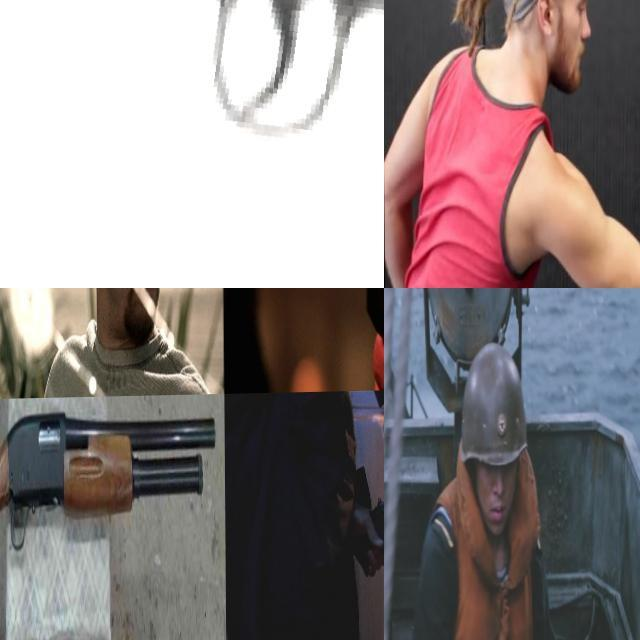gun-knife-thesis - v11 Yolov5 augmented: (0, 0, 384, 288), (0, 394, 216, 640), (384, 350, 457, 640), (304, 288, 384, 443), (349, 489, 384, 593), (0, 288, 28, 387)
